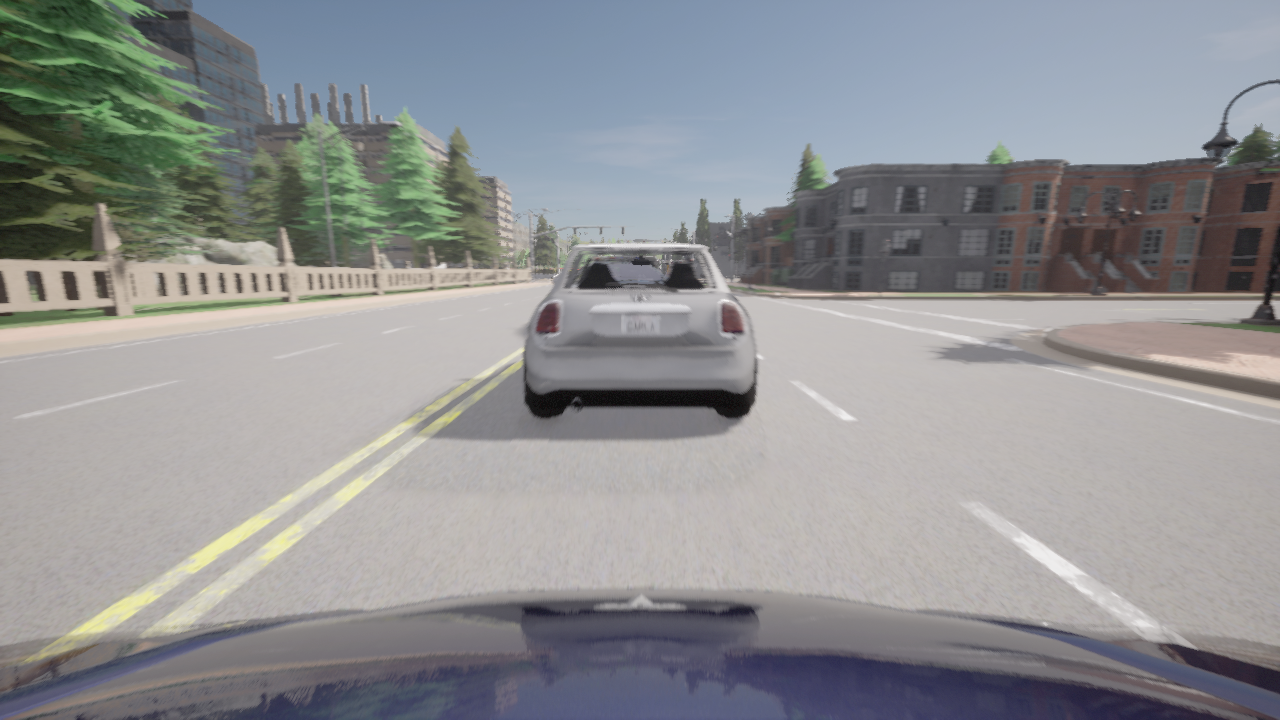cyclist: (0, 588, 1279, 719), (522, 244, 757, 417)
